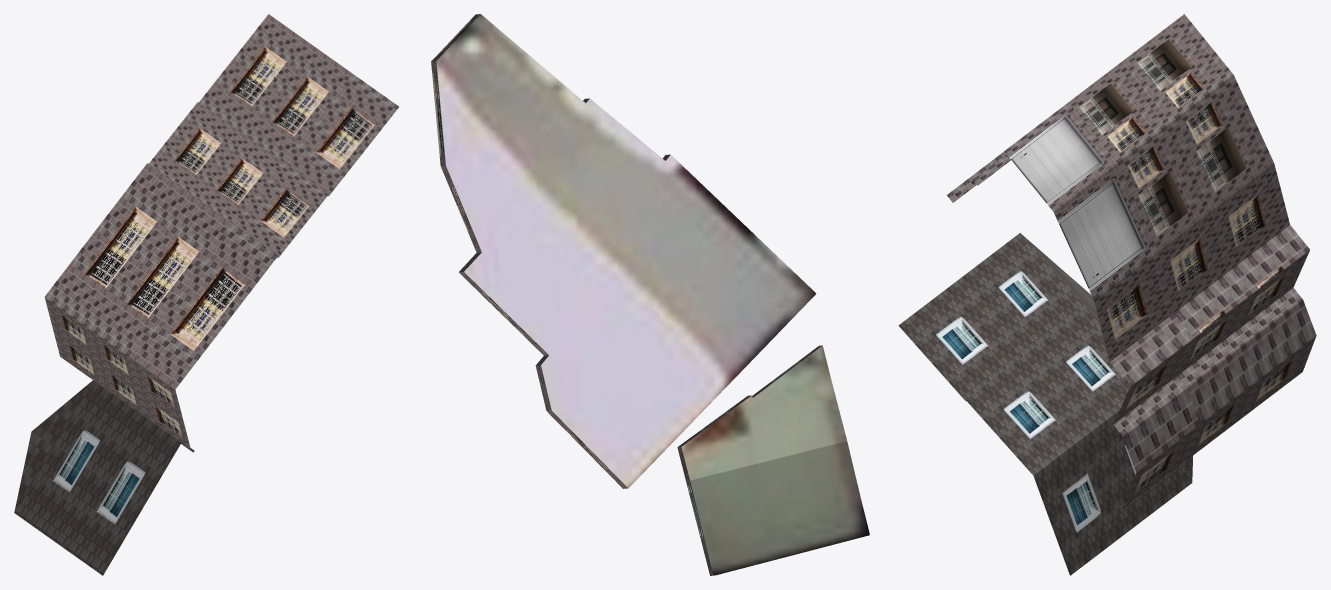
3 views of the same model, side by side, from view 1: azimuth 30°, elevation 25°; view 2: azimuth 150°, elevation 25°; view 3: azimuth 270°, elevation 25° (orthographic). The views are drawn at different scales.
Bounding box in the file's own units: 24.85 × 29.27 × 16.57.
Materials: 8 (8 with a texture image).
